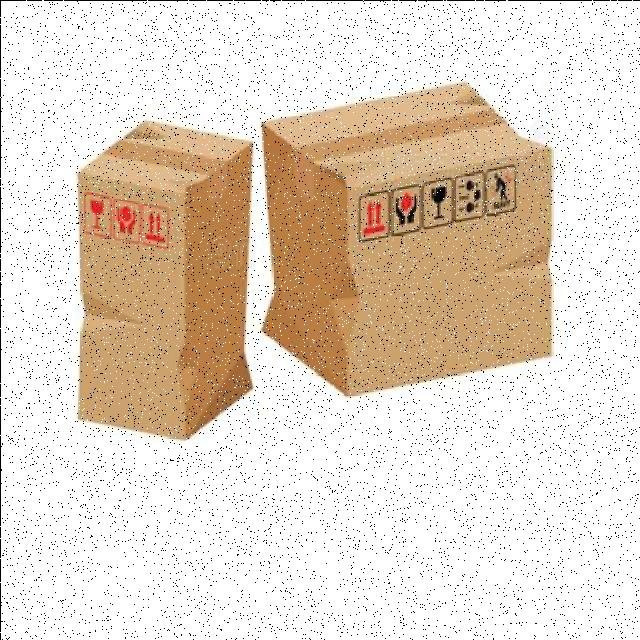defect: (255, 76, 557, 398), (74, 117, 255, 440)
